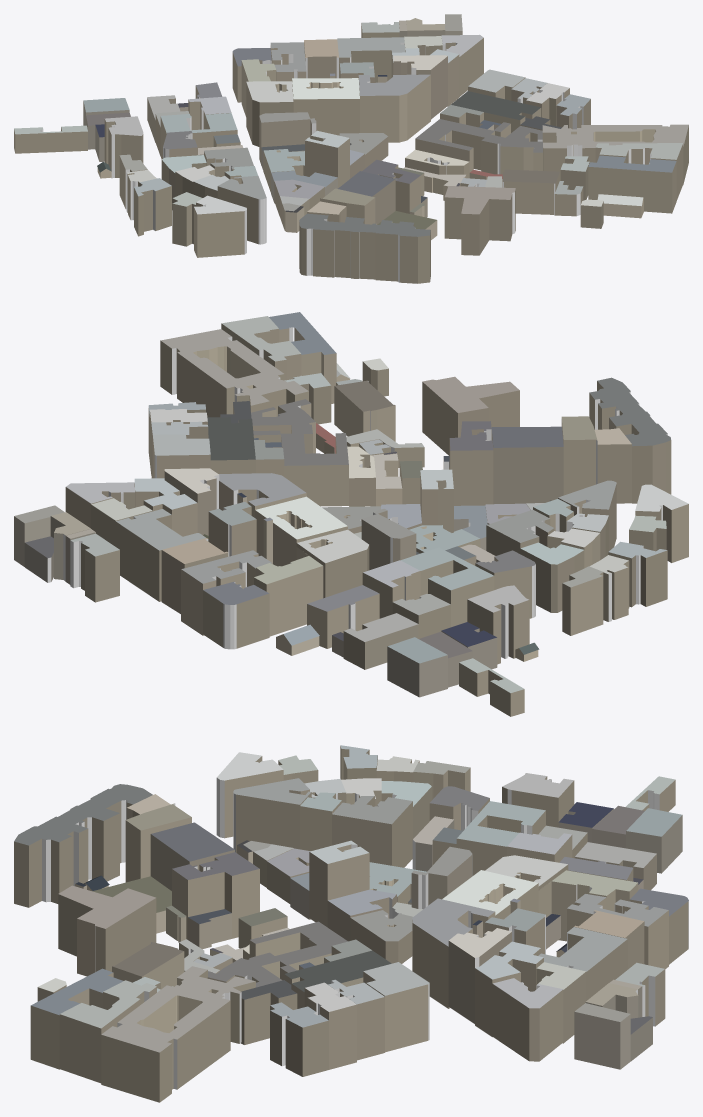
The picture shows the model from 3 angles, top to bottom: view 1: azimuth 30°, elevation 25°; view 2: azimuth 150°, elevation 25°; view 3: azimuth 270°, elevation 25°; orthographic projection. The views are drawn at different scales.
Visible parts, largest first — view 1: tuile; view 2: tuile; view 3: tuile.
Part boxes in pixels (box(x1,y1,x2,y2)): tuile: box(14, 14, 688, 283); tuile: box(14, 312, 688, 716); tuile: box(14, 745, 688, 1102).
Bounding box in the file's own units: 303 × 35.61 × 275.
